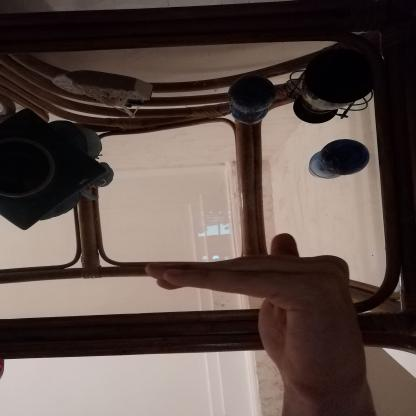KHAA: (125, 225, 388, 406)
